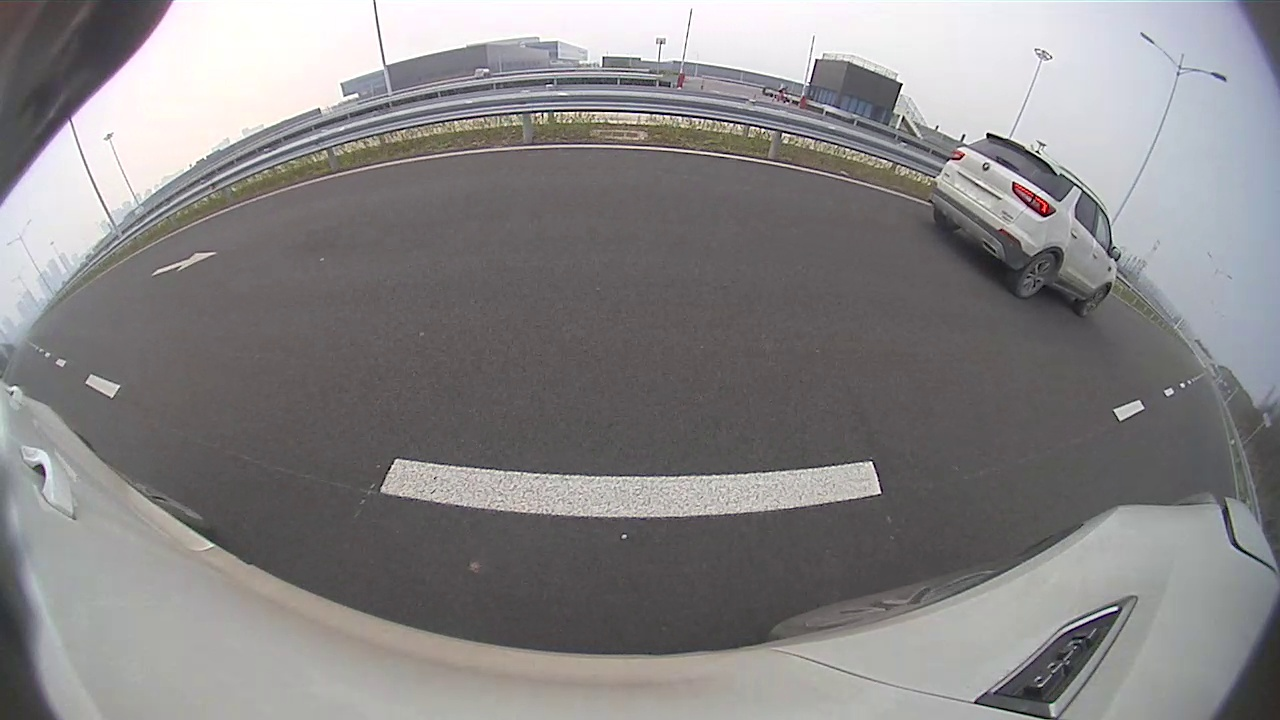car: (926, 131, 1121, 317)
rear: (1013, 253, 1060, 301)
